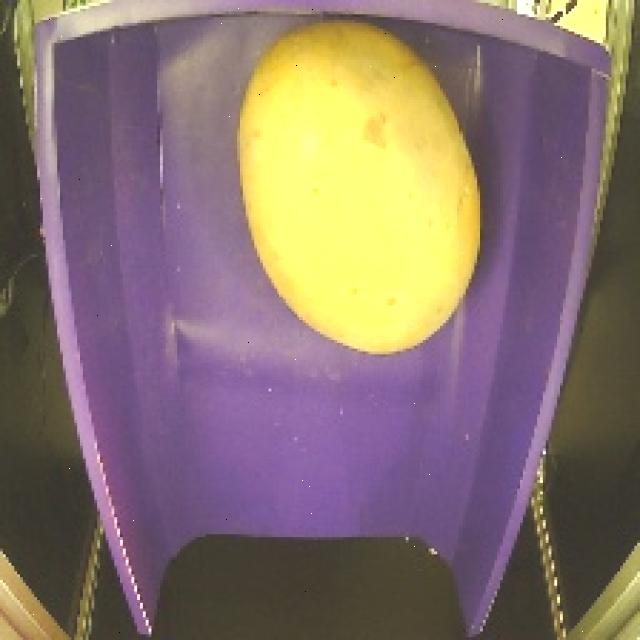full_potato: (232, 15, 493, 376)
